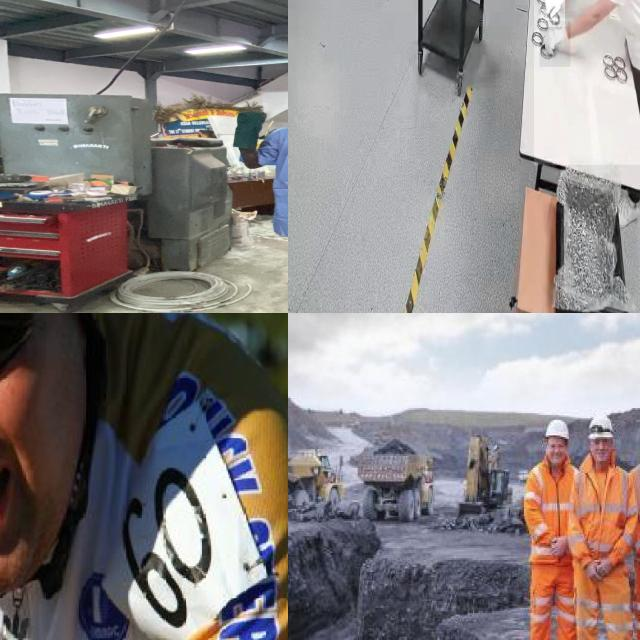face_nomask: (0, 318, 43, 543), (591, 436, 612, 461), (544, 441, 567, 462)
glasses: (0, 313, 61, 407)
hand_glove: (539, 21, 571, 68), (232, 108, 271, 128), (540, 0, 565, 27)
hand_noglove: (544, 532, 570, 562), (592, 554, 616, 578), (582, 558, 601, 582)
head_helmet: (588, 412, 616, 439), (542, 417, 572, 440)
person: (534, 0, 640, 165), (570, 409, 640, 640), (523, 419, 590, 640), (221, 85, 288, 302)
